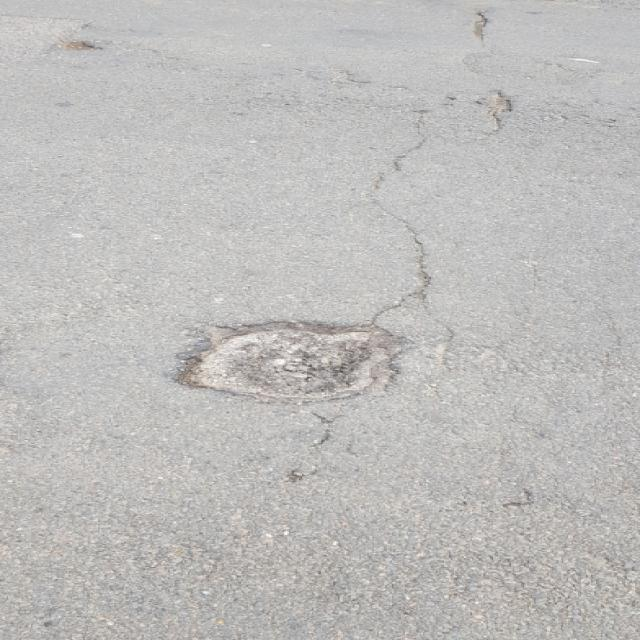pothole: (165, 317, 415, 401)
